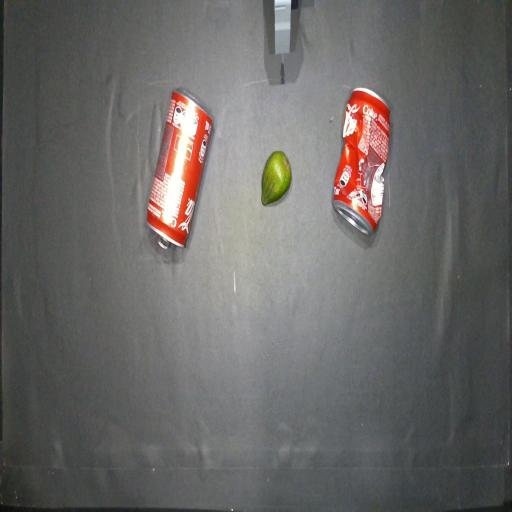higo: (261, 151, 291, 205)
lata: (147, 88, 213, 248)
lata_defectuoso: (332, 88, 390, 234)
